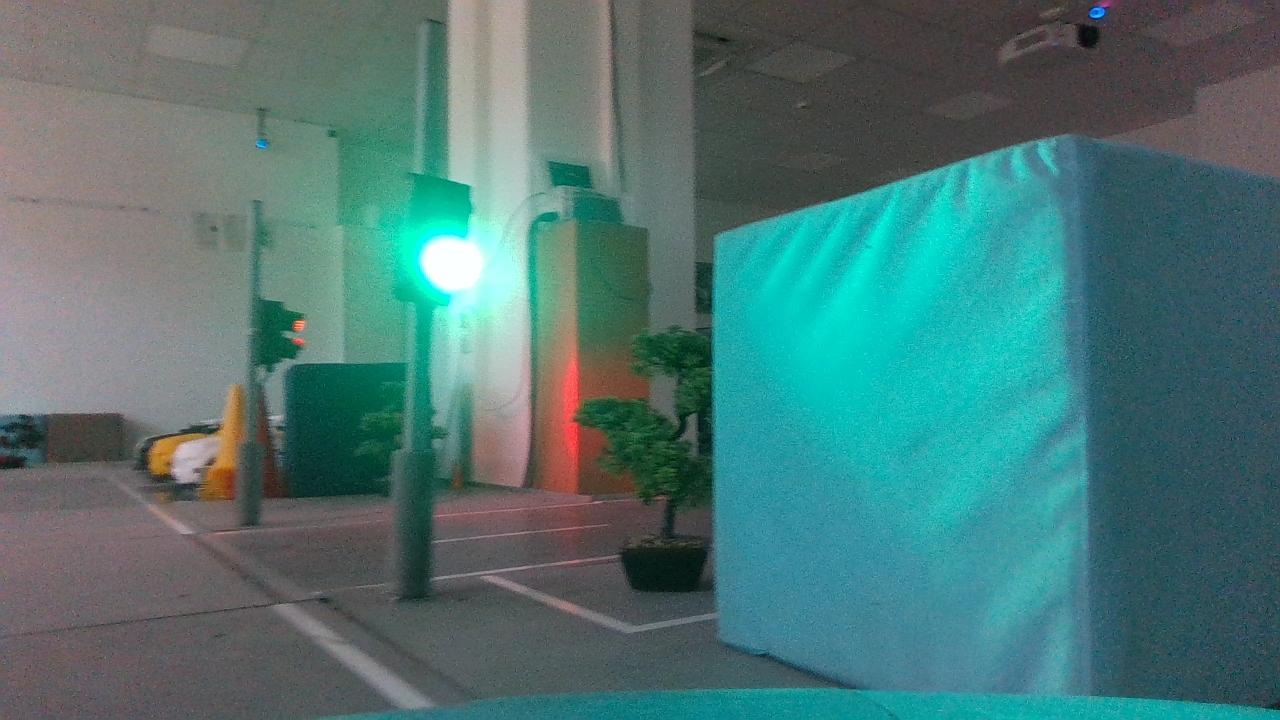traffic_light_green: (376, 161, 497, 325)
